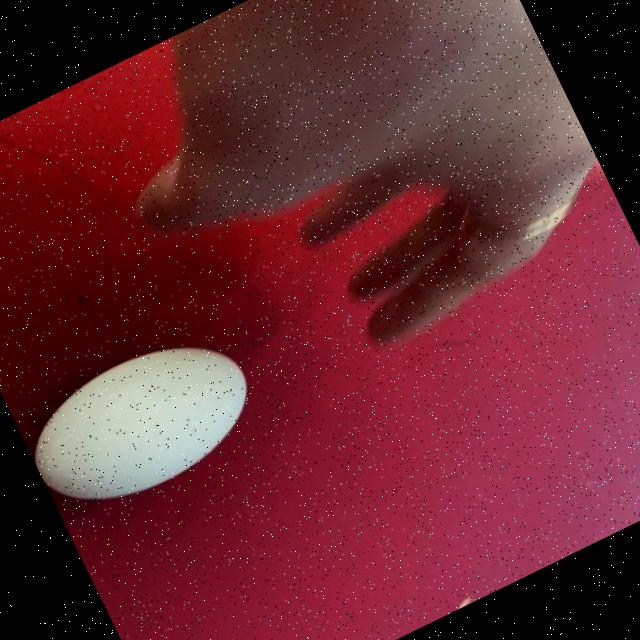ping-pong-ball: (9, 314, 272, 530)
